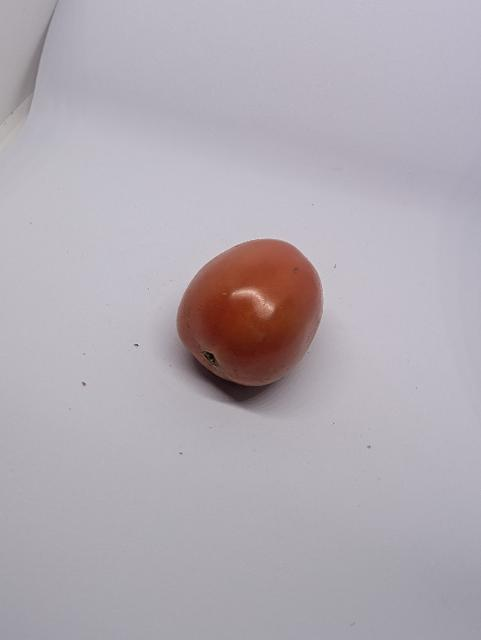red: (172, 235, 331, 392)
